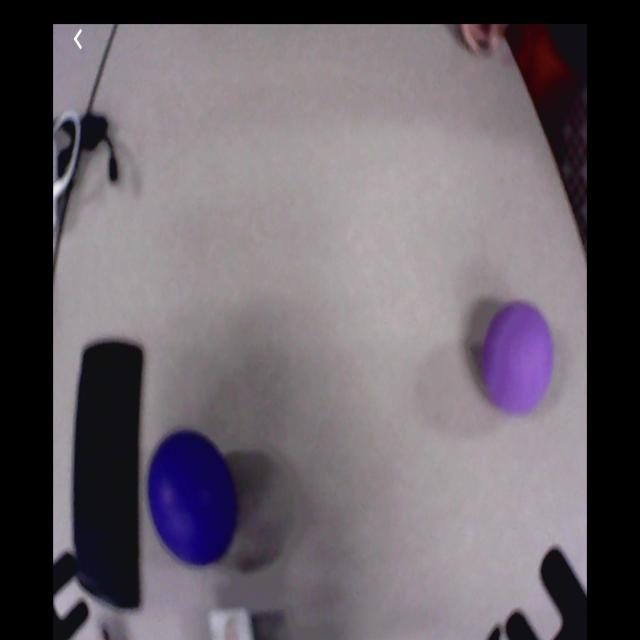ball: (151, 431, 235, 565), (481, 302, 554, 416)
